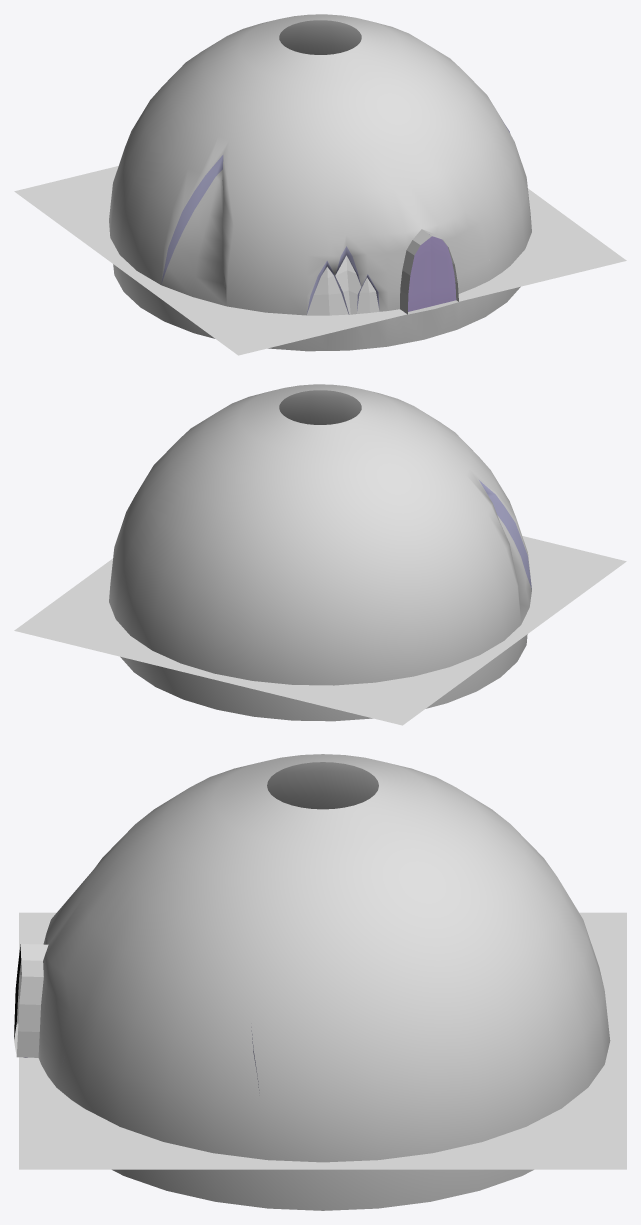
Rendered from outsideTheTemple.fbx.
3 views of the same model, one above another, from view 1: azimuth 30°, elevation 25°; view 2: azimuth 150°, elevation 25°; view 3: azimuth 270°, elevation 25° (orthographic). The views are drawn at different scales.
Parts seen in each view (by area): view 1: Sphere, Plane, Cube, Cube.001; view 2: Sphere, Plane; view 3: Sphere, Plane.
Boxes of the visible parts, bbox=[...] form: Sphere: bbox=[109, 14, 531, 351]; Plane: bbox=[14, 166, 626, 355]; Cube: bbox=[430, 236, 456, 306]; Cube.001: bbox=[404, 237, 430, 312]; Sphere: bbox=[109, 384, 531, 721]; Plane: bbox=[14, 536, 626, 725]; Sphere: bbox=[14, 754, 610, 1210]; Plane: bbox=[19, 912, 626, 1169].
Size of the model in its own units: 74.34 by 41.3 by 74.96.
